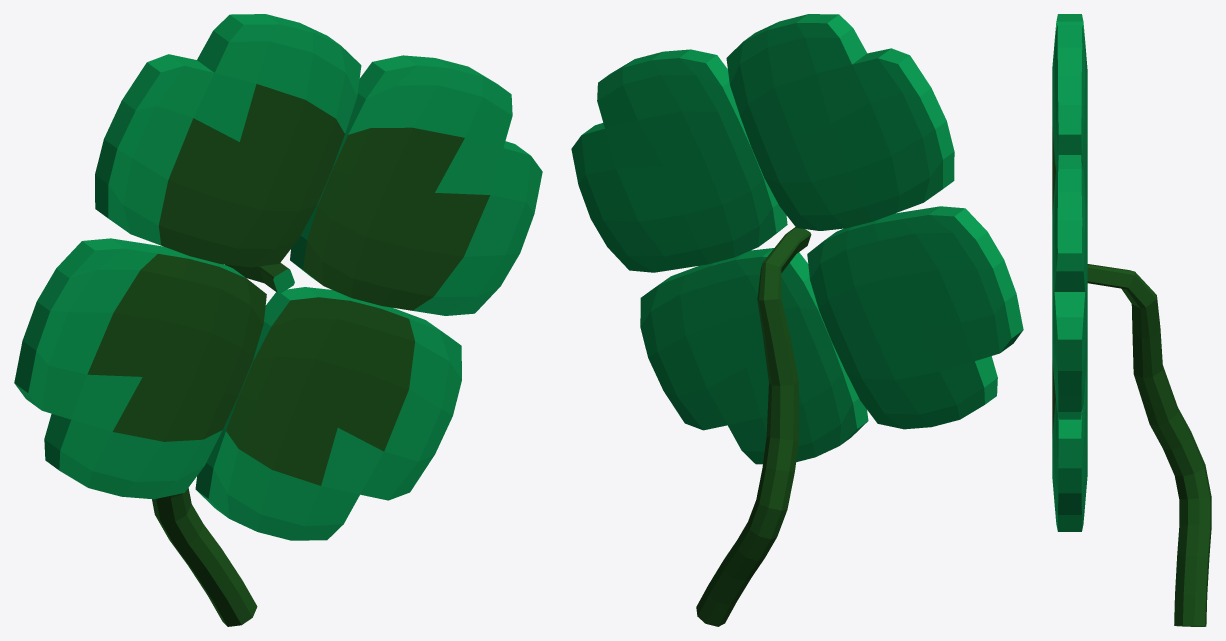
The model's file is Trevol 4hojas.fbx.
3 renders of one model, left to right at view 1: azimuth 30°, elevation 25°; view 2: azimuth 150°, elevation 25°; view 3: azimuth 270°, elevation 25°, orthographic. The views are drawn at different scales.
Visible parts, largest first — view 1: trevol; view 2: trevol; view 3: trevol.
Part boxes in pixels (box(x1,y1,x2,y2)): trevol: box(14, 14, 542, 626); trevol: box(571, 14, 1023, 626); trevol: box(1052, 14, 1211, 626).
Bounding box in the file's own units: 51.21 × 63.84 × 15.99.
